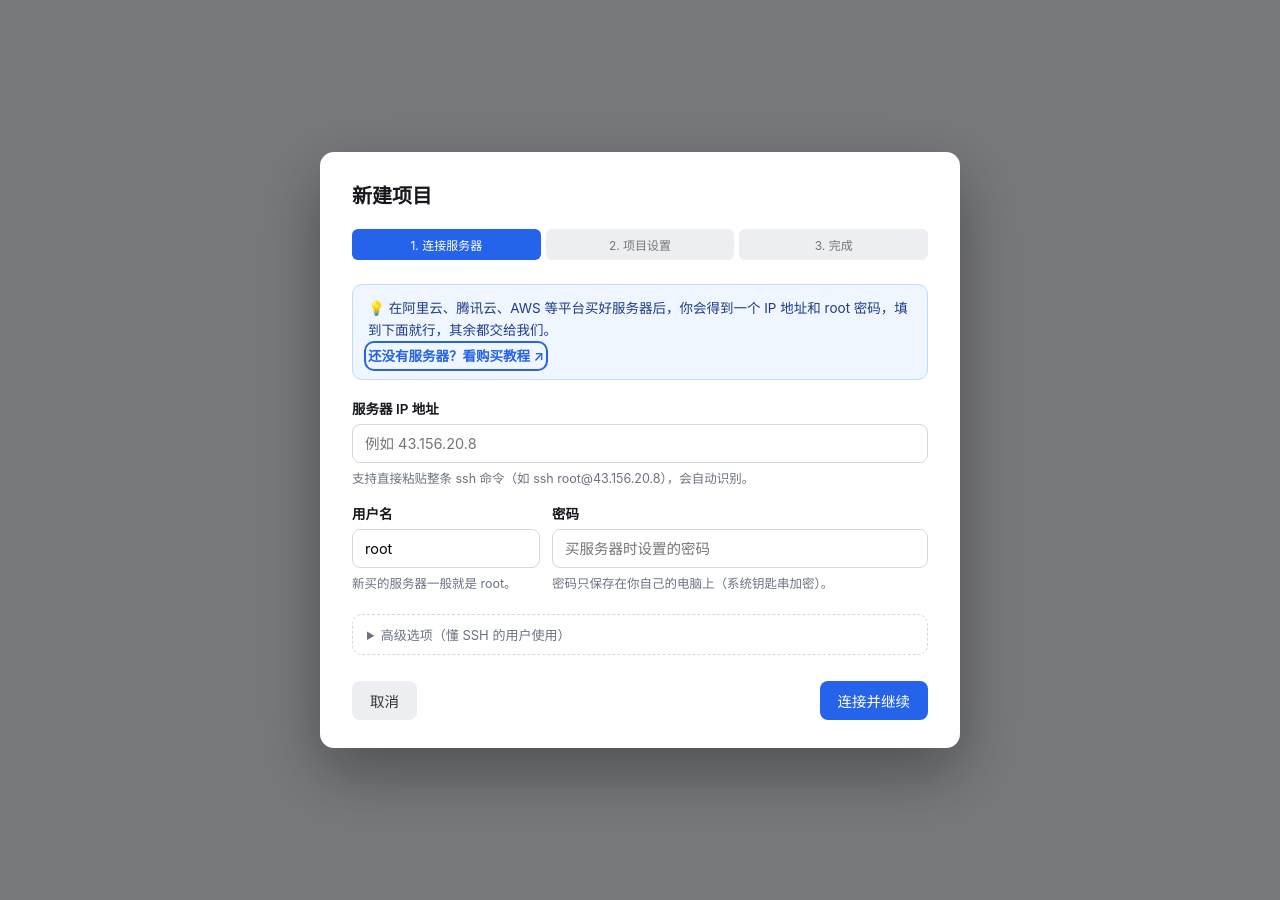
Scenario: 新建项目向导（5.3） › 排除规则预设四条，并固定提示机密文件永不同步且没有开关
This screenshot has width=1280, height=900.
Type "43.156.20.8" into the field labelled "服务器 IP 地址" at point(640, 444), box [352, 424, 928, 463]
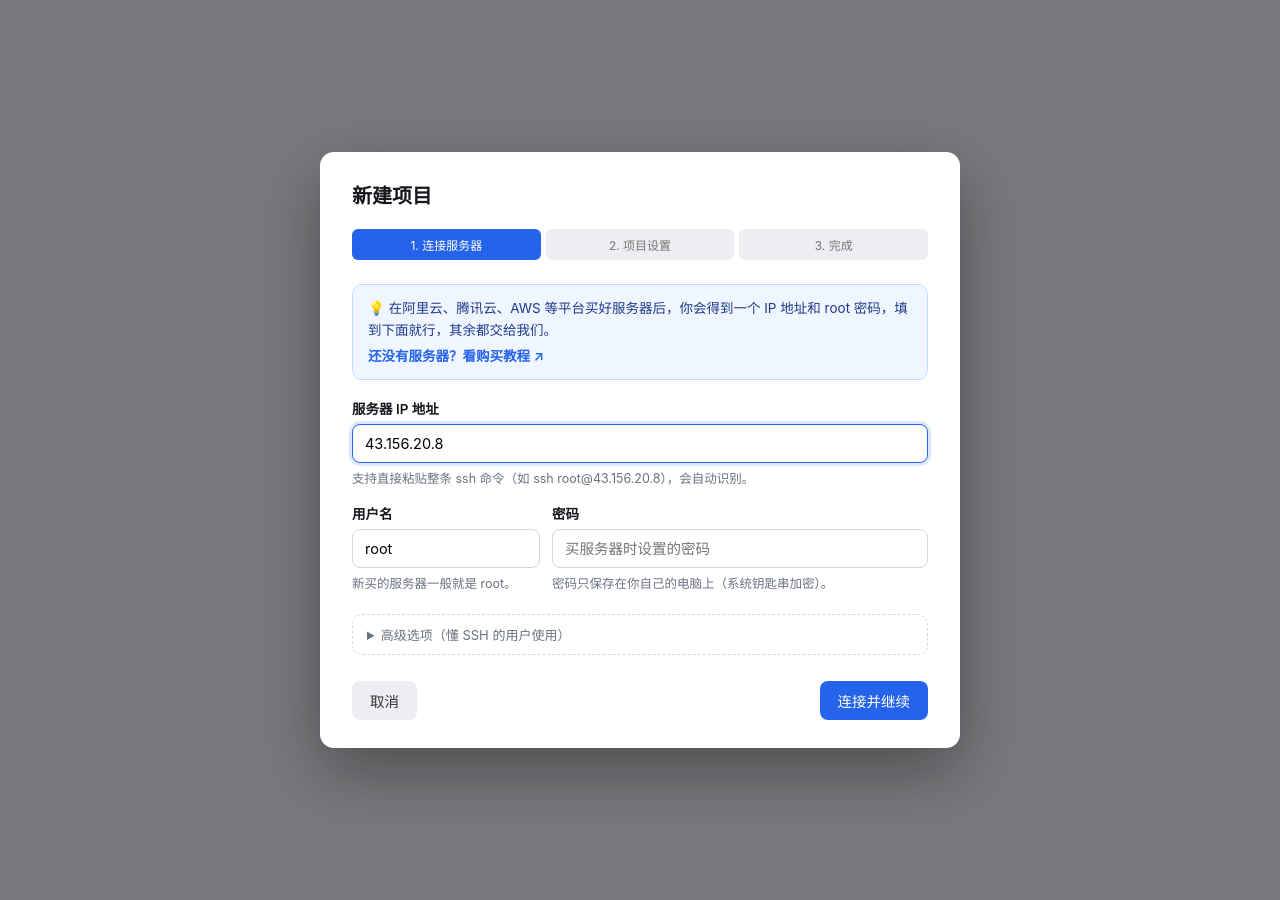
Type "hunter2" into the password field labelled "密码" at point(740, 549), box [552, 529, 928, 568]
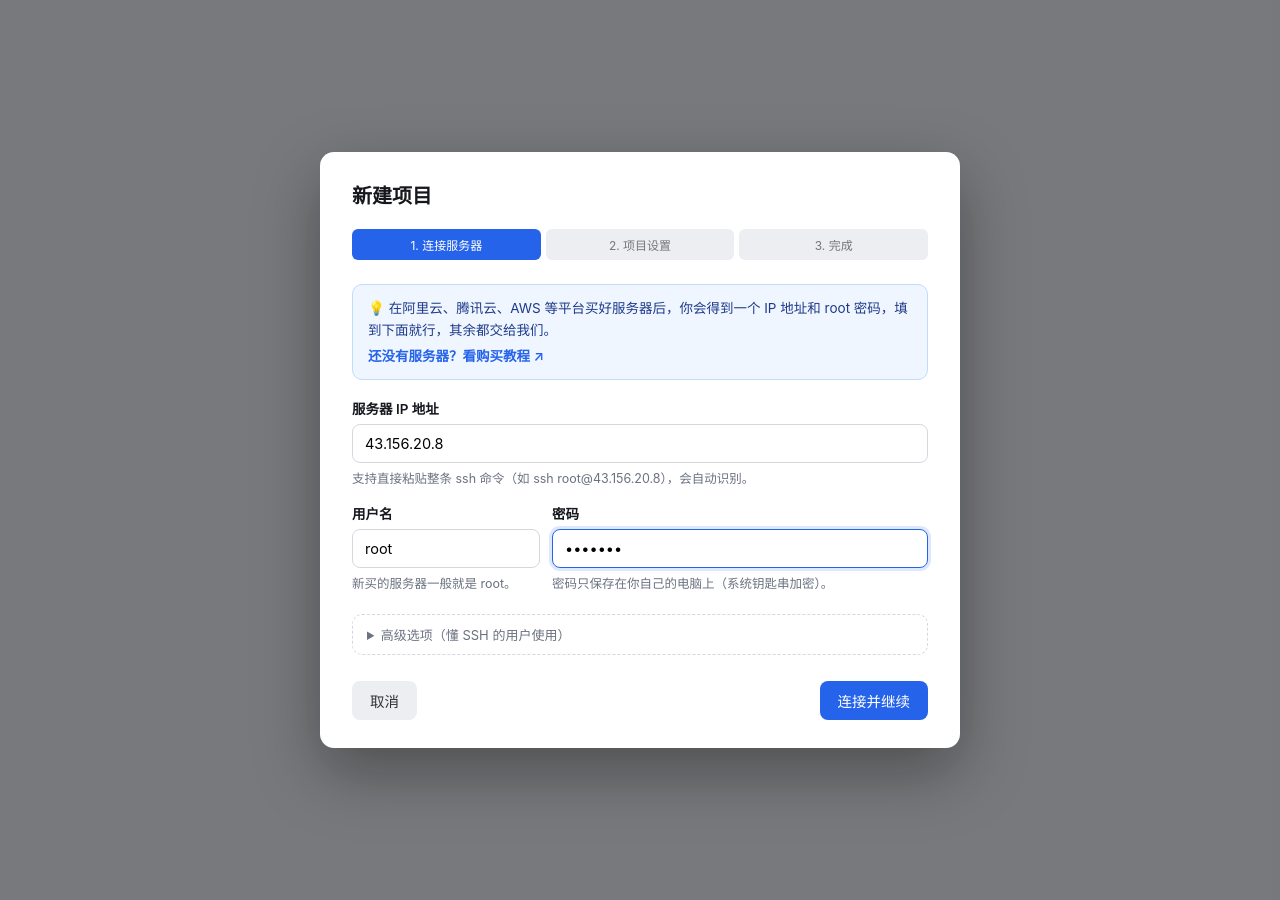
Click the button "连接并继续" at point(874, 701), box [820, 681, 928, 720]
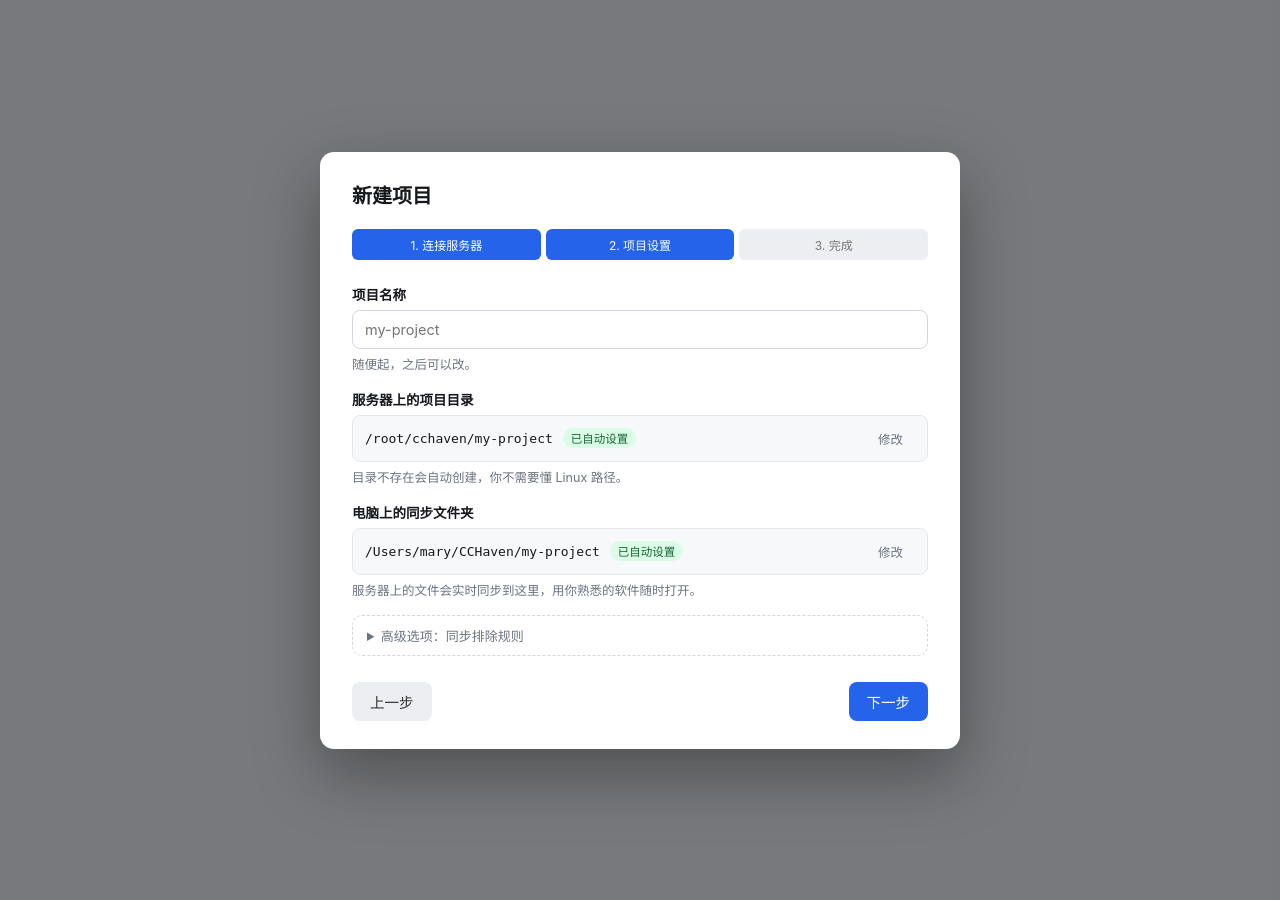
Type "api" into the field labelled "项目名称" at point(640, 329), box [352, 310, 928, 348]
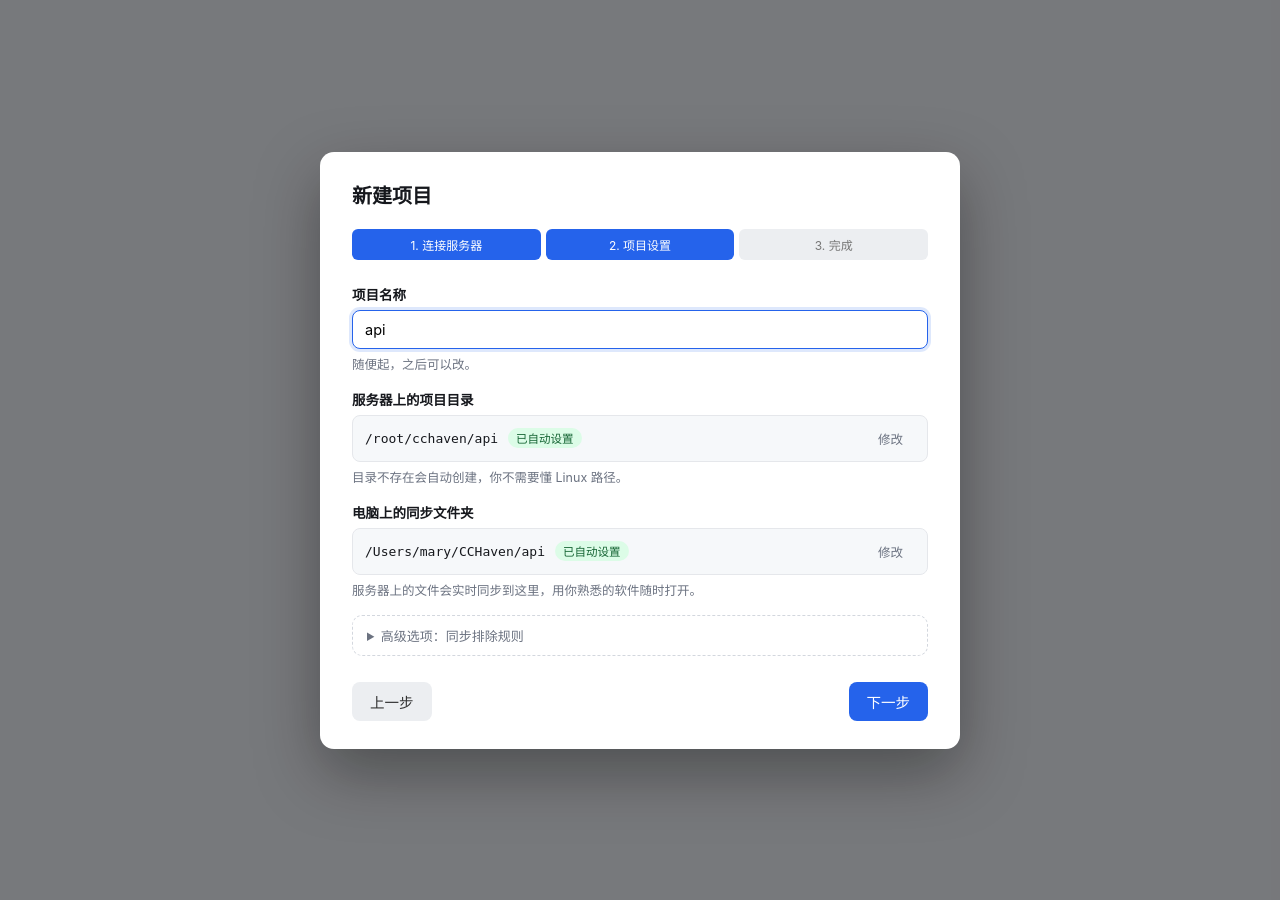
Click the heading "高级选项：同步排除规则" at point(452, 636), box [381, 628, 524, 644]
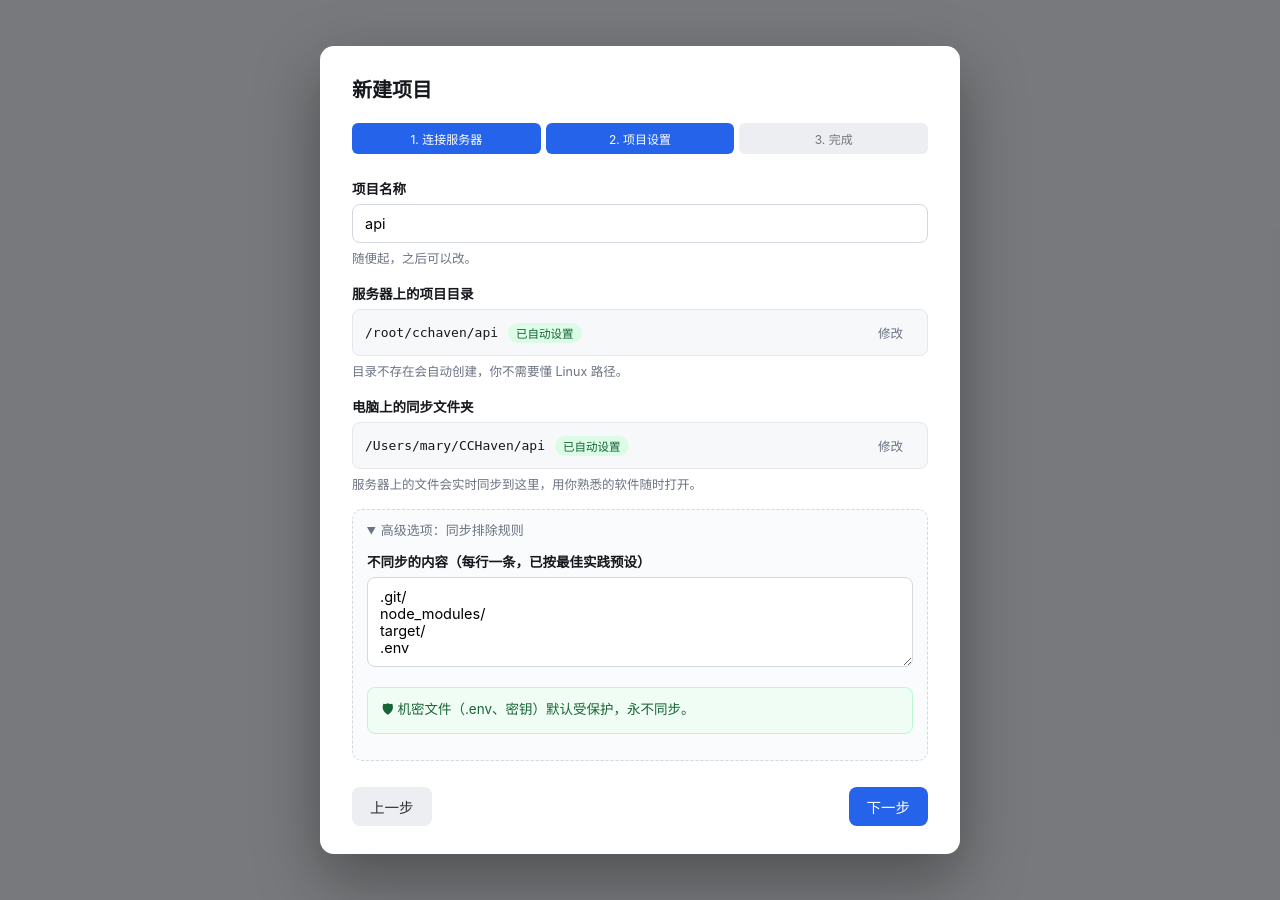
Result: the text "🛡 机密文件（.env、密钥）默认受保护，永不同步。" is shown at [382, 698, 694, 723]
